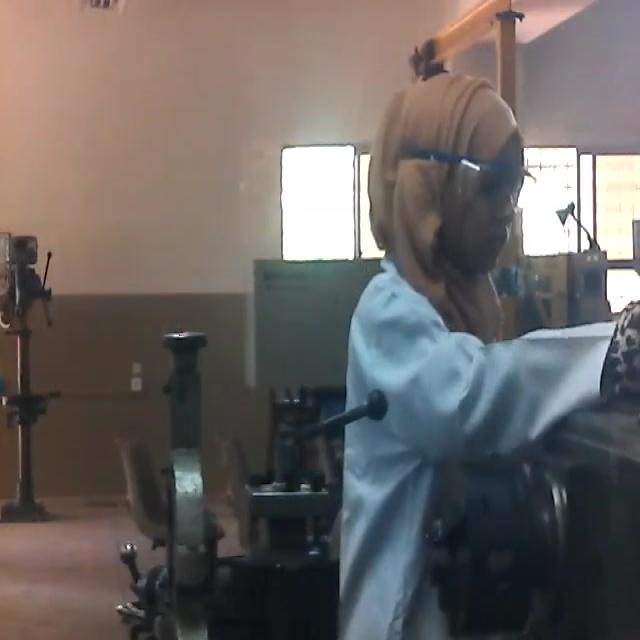googles: (451, 148, 539, 224)
labcoat: (336, 250, 621, 640)
